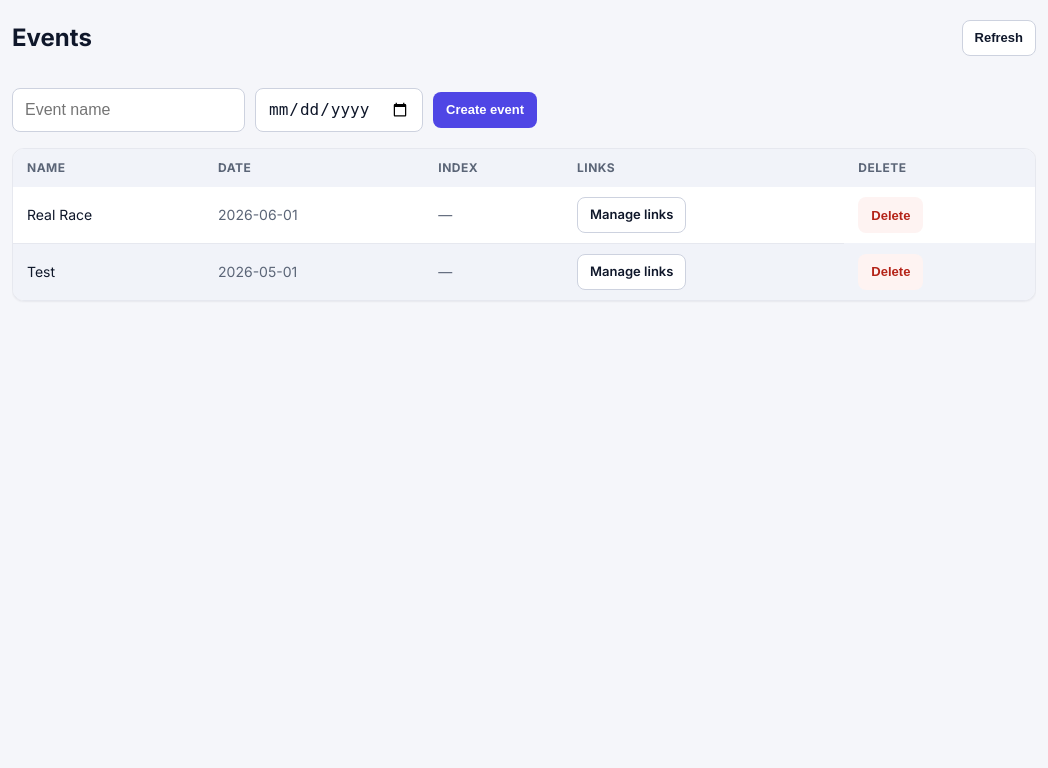
Scenario: <AdminEvents /> delete › applies with confirmName once armed, then reports the result
The image size is (1048, 768).
Expected: the text "Real Race" is shown, 13,187 -> 204,243
Click the button "Delete" in the row of "Real Race". click: [891, 215]
box: 858,197 -> 923,233
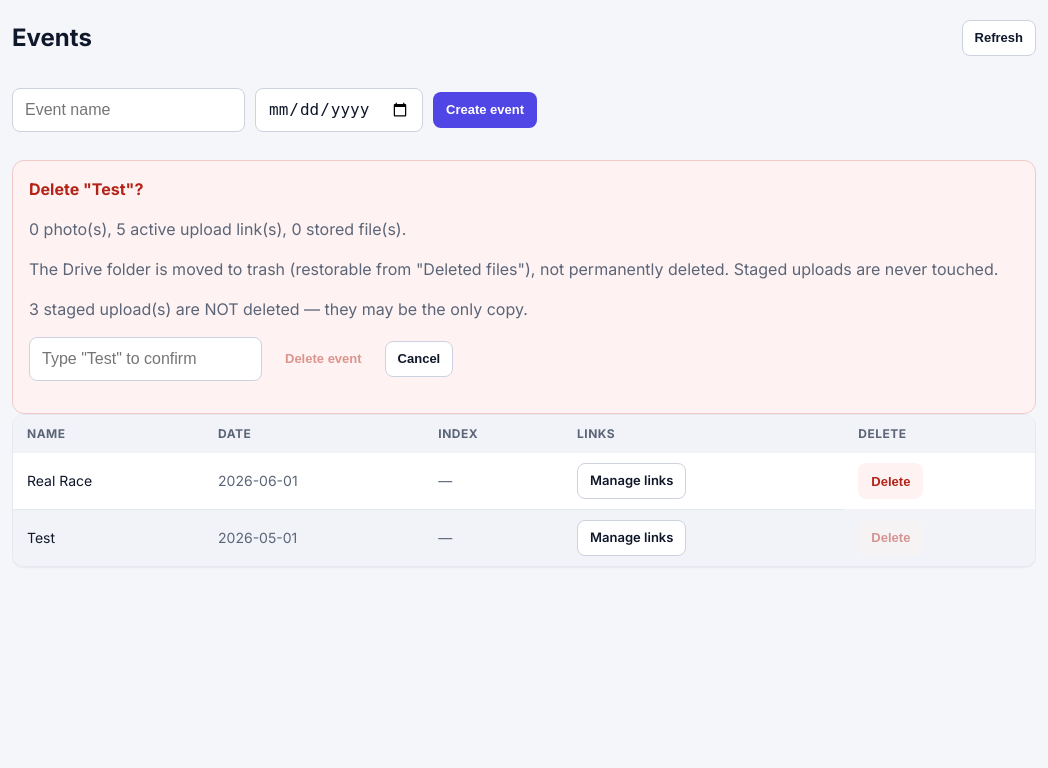
Expected: the heading "Delete \"Test\"?" is shown, 29,179 -> 143,199
Type "Test" into the field with placeholder "Type \"Test\" to confirm". click: [146, 359]
box: 29,337 -> 262,381
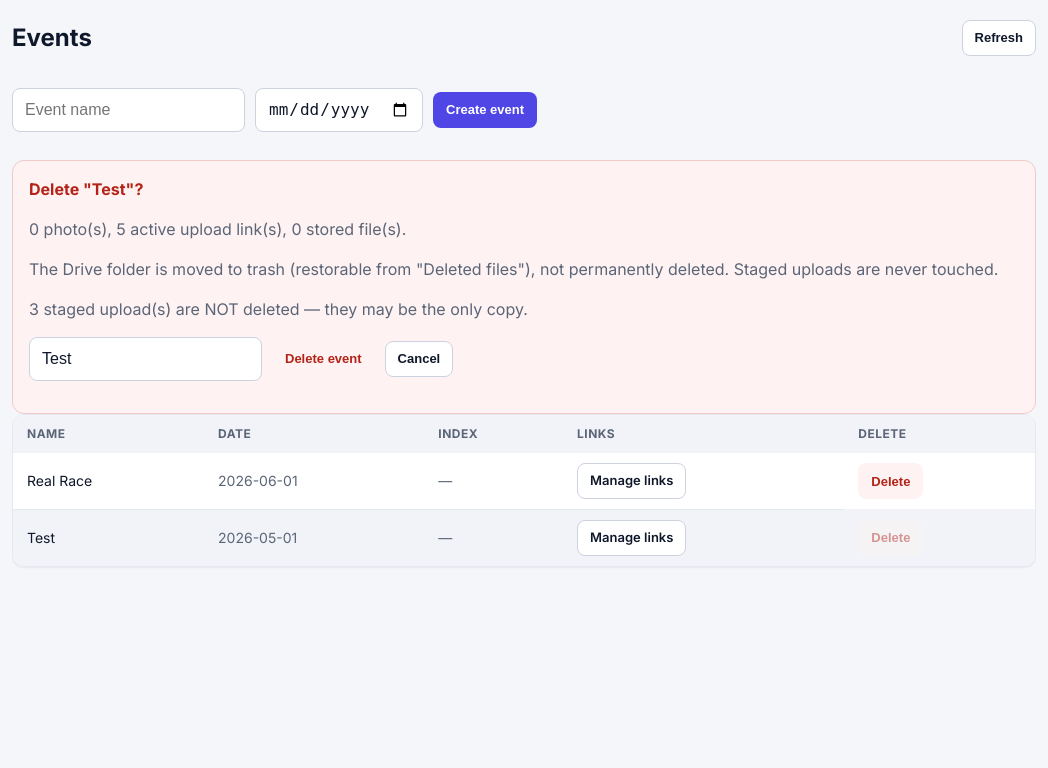
Click the button "Delete event". click: [323, 359]
box: 272,341 -> 375,377
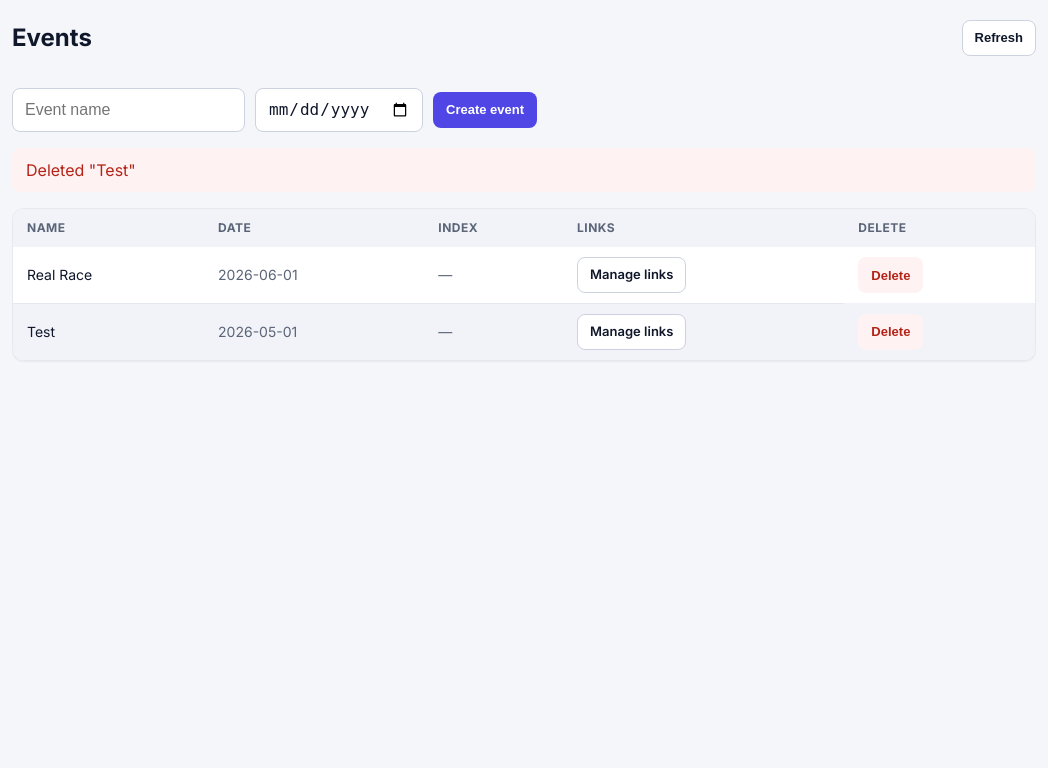
Expected: the text "Deleted \"Test\"" is shown, 12,148 -> 1036,192
Expected: the heading "Delete \"Test\"?" is gone
